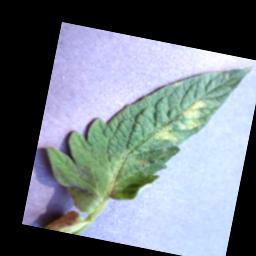Leaf_Mold: (151, 89, 212, 149)
